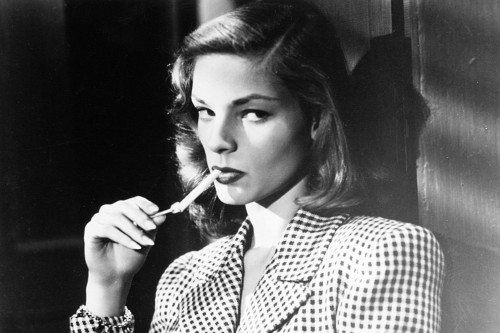cigarette: (167, 159, 228, 217)
